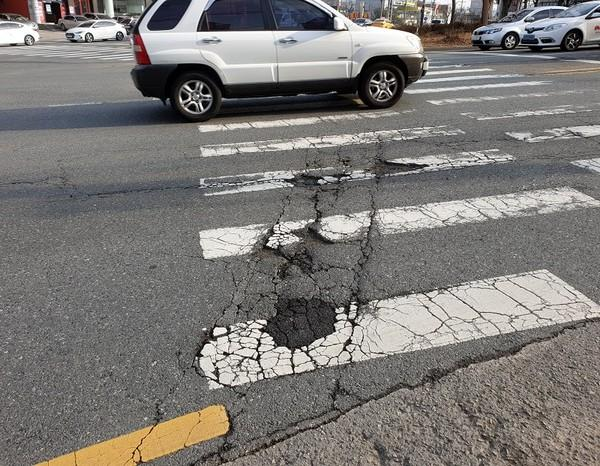pothole: (250, 275, 358, 365)
